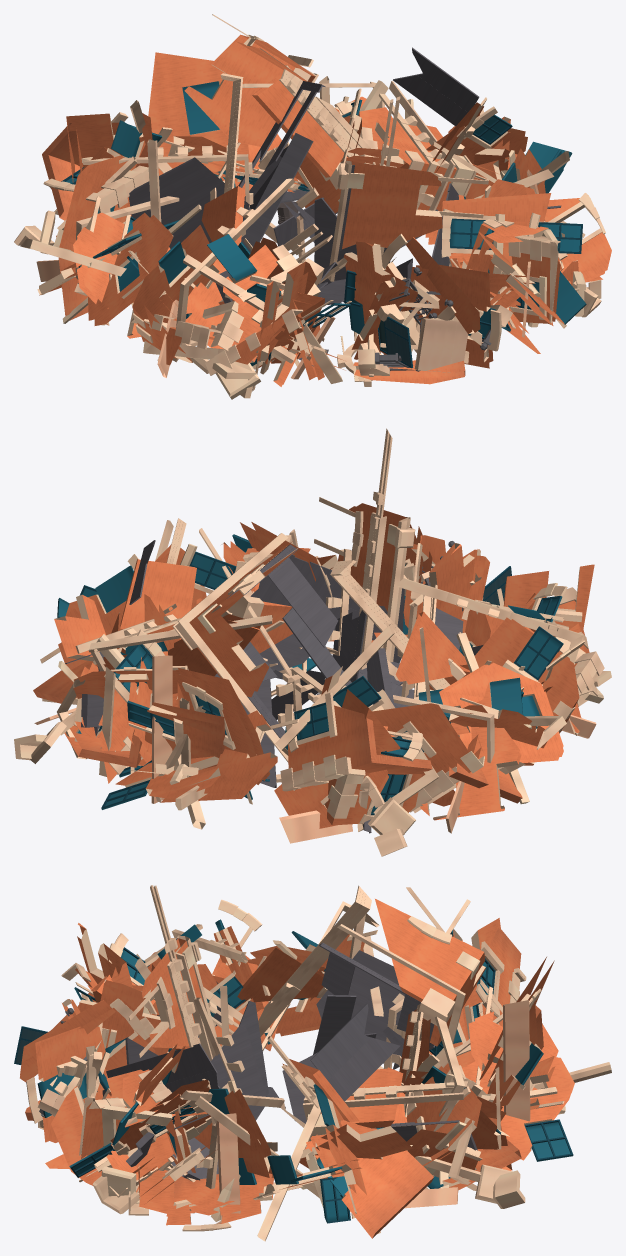
File: houdini_brick_townhouse_pieces.glb
The picture shows the model from 3 angles, top to bottom: view 1: azimuth 30°, elevation 25°; view 2: azimuth 150°, elevation 25°; view 3: azimuth 270°, elevation 25°; orthographic projection.
Parts seen in each view (by area): view 1: LOD0; view 2: LOD0; view 3: LOD0.
Boxes of the visible parts, <box> form: LOD0: <box>14,14,611,399</box>; LOD0: <box>14,428,611,856</box>; LOD0: <box>14,885,611,1241</box>.
Size of the model in its own units: 20.83 by 9.21 by 20.79.
4 materials, 4 textured.
